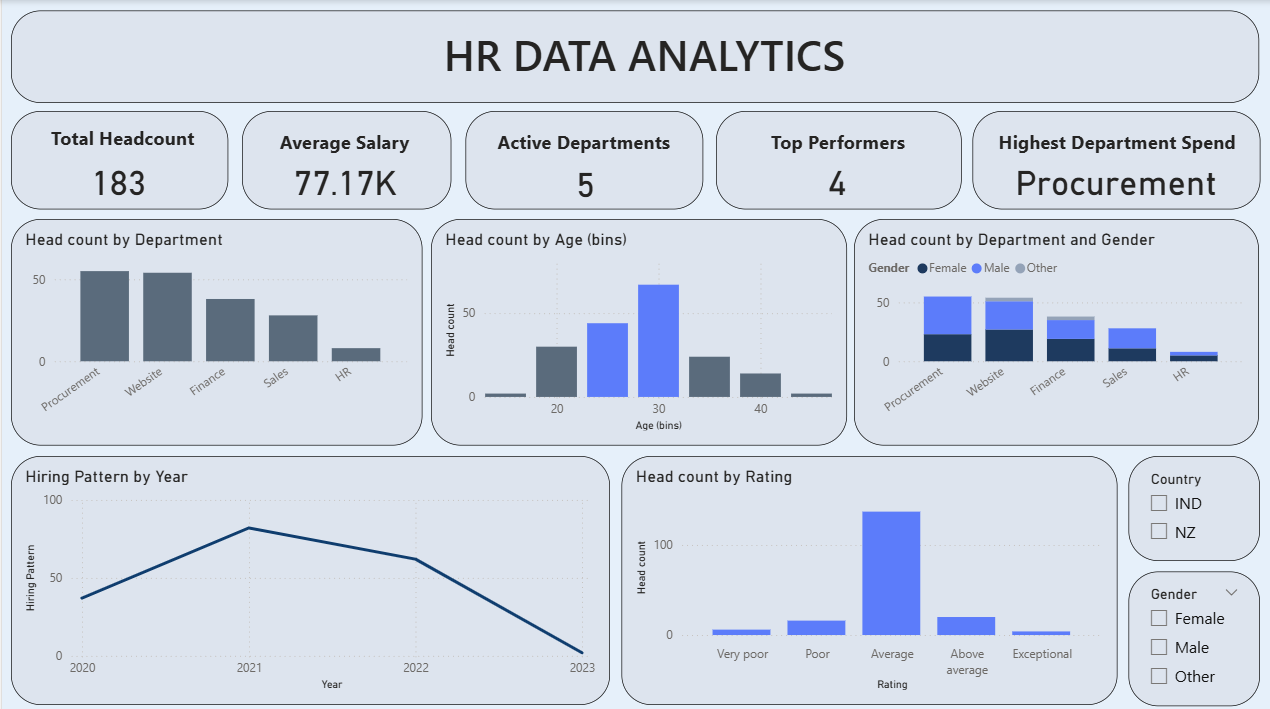

Layout of this report page (visuals, bound fields, positions):
{"tool":"powerbi","page":{"name":"Page 1","canvas":[1280,720],"ordinal":0},"visuals":[{"type":"columnChart","fields":{"Category":["Data.Department"],"Y":["Data.Head count"]},"box":[9.5,221.1,415.3,229],"z":0},{"type":"slicer","fields":{"Values":["Data.Country"]},"box":[1136.9,461.1,132.6,105.8],"z":1000},{"type":"textbox","box":[9.5,11.1,1260,93.2],"z":2000},{"type":"textbox","box":[9.5,112.1,219.5,99.5],"z":3000},{"type":"card","fields":{"Values":["Data.Head count"]},"box":[3.2,131.1,229,99.5],"z":4000},{"type":"textbox","box":[241.6,112.1,211.6,99.5],"z":5000},{"type":"card","fields":{"Values":["Data.Average Salary"]},"box":[232.1,131.1,229,99.5],"z":6000},{"type":"textbox","box":[467.4,112.1,240,99.5],"z":7000},{"type":"card","fields":{"Values":["Data.departments count"]},"box":[473.7,132.6,229,99.5],"z":8000},{"type":"textbox","box":[720,112.1,247.9,99.5],"z":9000},{"type":"card","fields":{"Values":["Data.Count Top Performers"]},"box":[727.9,131.1,229,99.5],"z":10000},{"type":"textbox","box":[979,112.1,290.5,99.5],"z":11000},{"type":"card","fields":{"Values":["Data.high expenditure department"]},"box":[1010.5,131.1,229,99.5],"z":12000},{"type":"lineChart","fields":{"Category":["Data.Date Joined.Variation.Date Hierarchy.Year","Data.Date Joined.Variation.Date Hierarchy.Quarter","Data.Date Joined.Variation.Date Hierarchy.Month","Data.Date Joined.Variation.Date Hierarchy.Day"],"Y":["Data.Hiring Pattern"]},"box":[9.5,461.1,604.7,251.1],"z":13000},{"type":"columnChart","fields":{"Category":["Data.Department"],"Y":["Data.Head count"],"Series":["Data.Gender"]},"box":[860.5,221.1,409,229],"z":14000},{"type":"columnChart","fields":{"Category":["Data.Age (bins)"],"Y":["Data.Head count"]},"box":[432.6,221.1,420,229],"z":15000},{"type":"columnChart","fields":{"Y":["Data.Head count"],"Category":["Very poor.Rating"]},"box":[625.3,461.1,500.5,251.1],"z":16000},{"type":"slicer","fields":{"Values":["Data.Gender"]},"box":[1136.9,576.3,132.6,135.8],"z":17000}]}

Visuals, with their boxes in screenshot pixels (x1, y1, x2, y2), scaled from the page's 1280x720 canvas onto the 1270x709 screenshot:
columnChart - Data.Department x Data.Head count: 9,218,421,443
slicer - Data.Country: 1128,454,1260,558
textbox: 9,11,1260,103
textbox: 9,110,227,208
card - Data.Head count: 3,129,230,227
textbox: 240,110,450,208
card - Data.Average Salary: 230,129,457,227
textbox: 464,110,702,208
card - Data.departments count: 470,131,697,229
textbox: 714,110,960,208
card - Data.Count Top Performers: 722,129,949,227
textbox: 971,110,1260,208
card - Data.high expenditure department: 1003,129,1230,227
lineChart - Data.Date Joined.Variation.Date Hierarchy.Year x Data.Date Joined.Variation.Date Hierarchy.Quarter: 9,454,609,701
columnChart - Data.Department x Data.Head count: 854,218,1260,443
columnChart - Data.Age (bins) x Data.Head count: 429,218,846,443
columnChart - Data.Head count x Very poor.Rating: 620,454,1117,701
slicer - Data.Gender: 1128,567,1260,701
